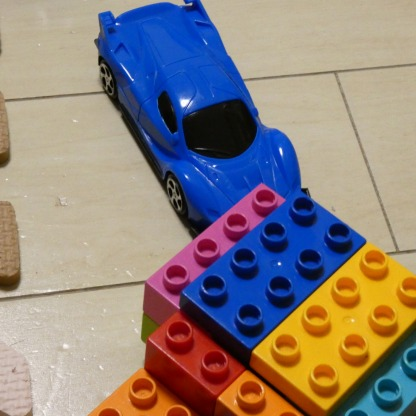car: (91, 0, 310, 237)
